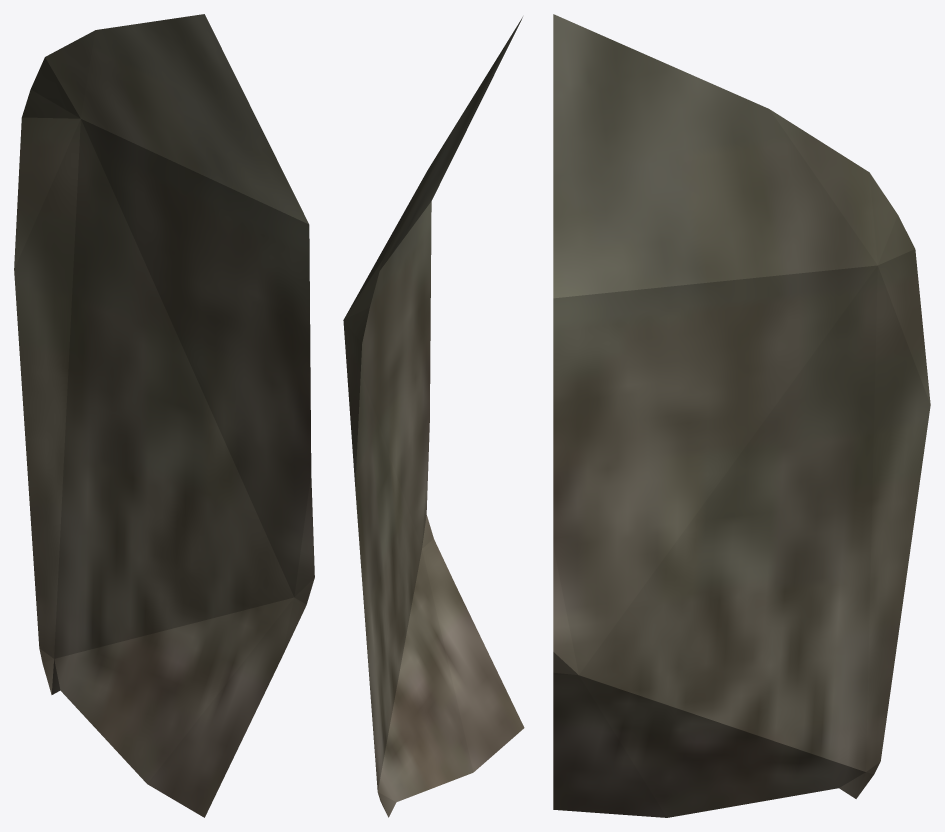
3 views of the same model, side by side, from view 1: azimuth 30°, elevation 25°; view 2: azimuth 150°, elevation 25°; view 3: azimuth 270°, elevation 25° (orthographic). The views are drawn at different scales.
Bounding box in the file's own units: 0.1429 × 1.01 × 0.428.
Materials: 1 (1 with a texture image).
